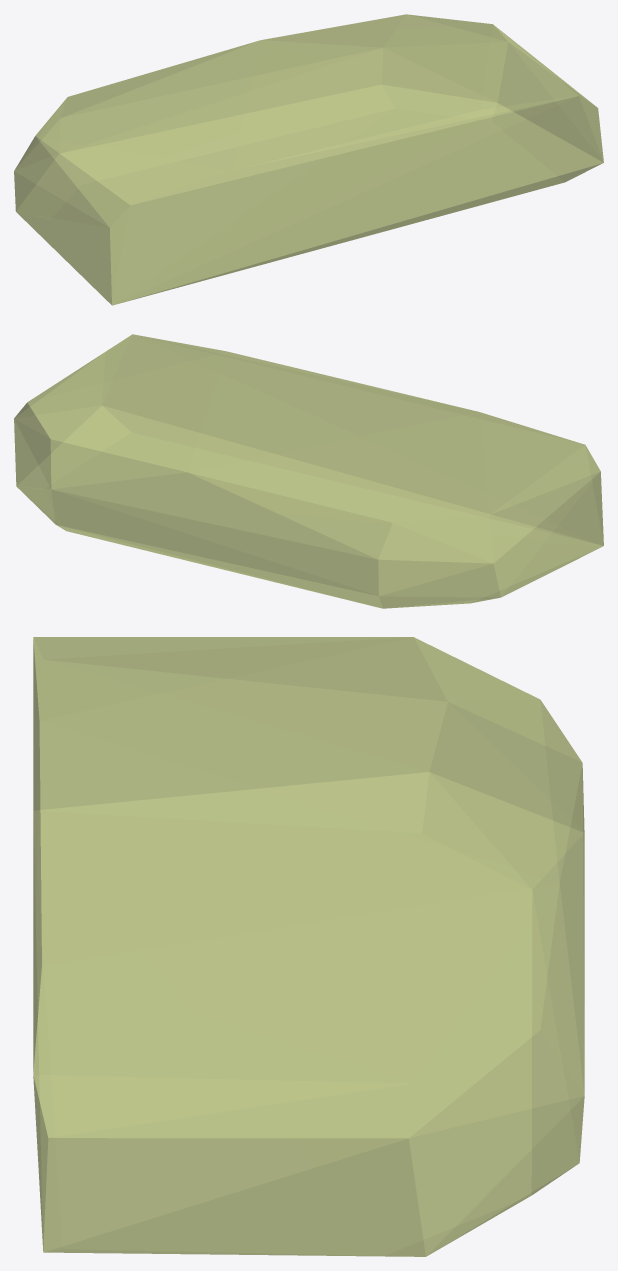
3 views of the same model, one above another, from view 1: azimuth 30°, elevation 25°; view 2: azimuth 150°, elevation 25°; view 3: azimuth 270°, elevation 25° (orthographic). The views are drawn at different scales.
Visible parts, largest first — view 1: Shape_IndexedFaceSet.002_Shape_IndexedFaceSet.5729; view 2: Shape_IndexedFaceSet.002_Shape_IndexedFaceSet.5729; view 3: Shape_IndexedFaceSet.002_Shape_IndexedFaceSet.5729.
Boxes of the visible parts, x1=… form: Shape_IndexedFaceSet.002_Shape_IndexedFaceSet.5729: x1=14, y1=14, x2=603, y2=305; Shape_IndexedFaceSet.002_Shape_IndexedFaceSet.5729: x1=14, y1=334, x2=603, y2=608; Shape_IndexedFaceSet.002_Shape_IndexedFaceSet.5729: x1=33, y1=637, x2=584, y2=1256.
Bounding box in the file's own units: 0.4853 × 0.0977 × 0.2344.
